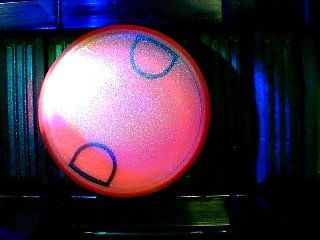MIPO2: (36, 24, 211, 198)
